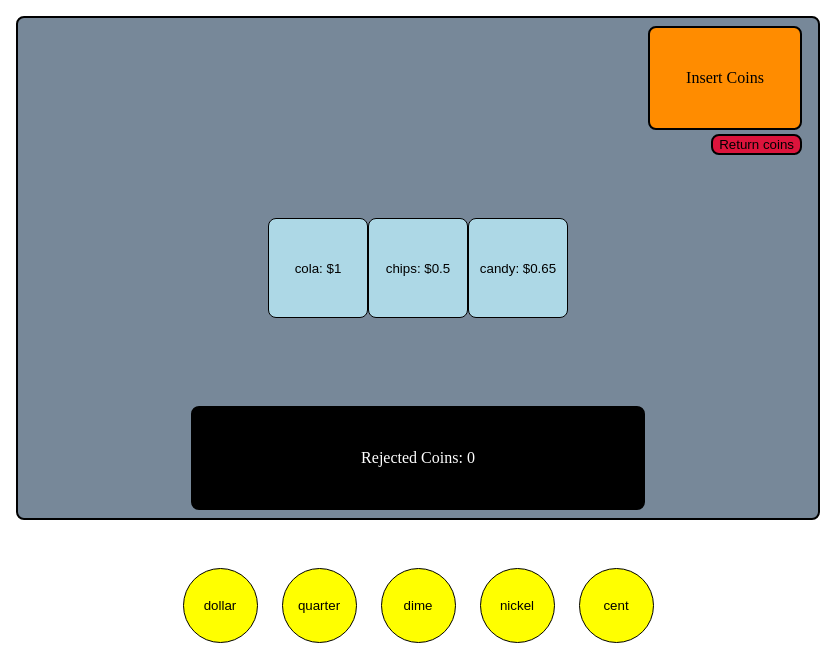
Scenario: UI elements have the correct affect on UI › Coins add up correctly
(page scrolled)
Click the button with test id "quarter". click: (319,606)
box: [282,568,356,643]
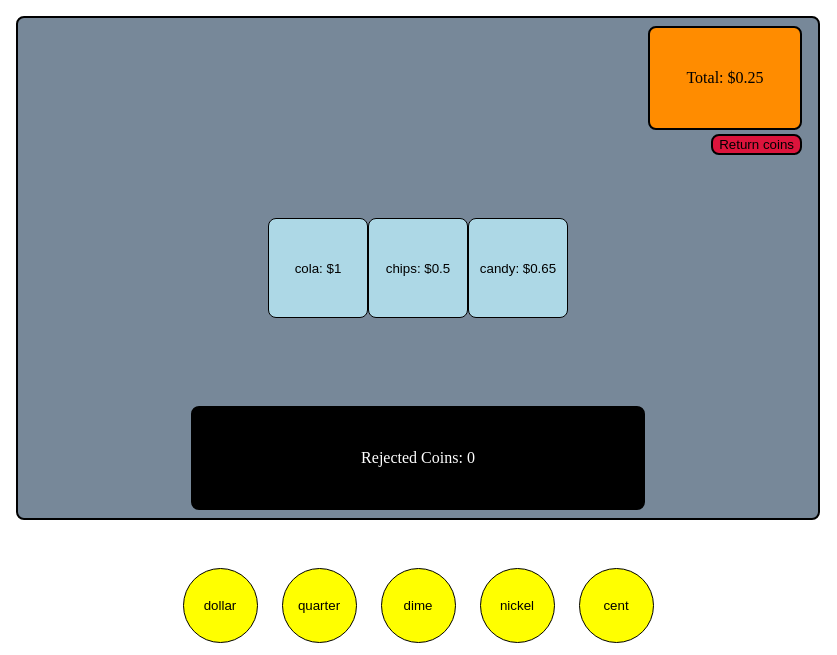
Expected: the text with test id "coin-total" reads "Total: $0.25", [686,69,764,86]
Click the button with test id "nickel". click: (517,606)
box: [480,568,554,643]
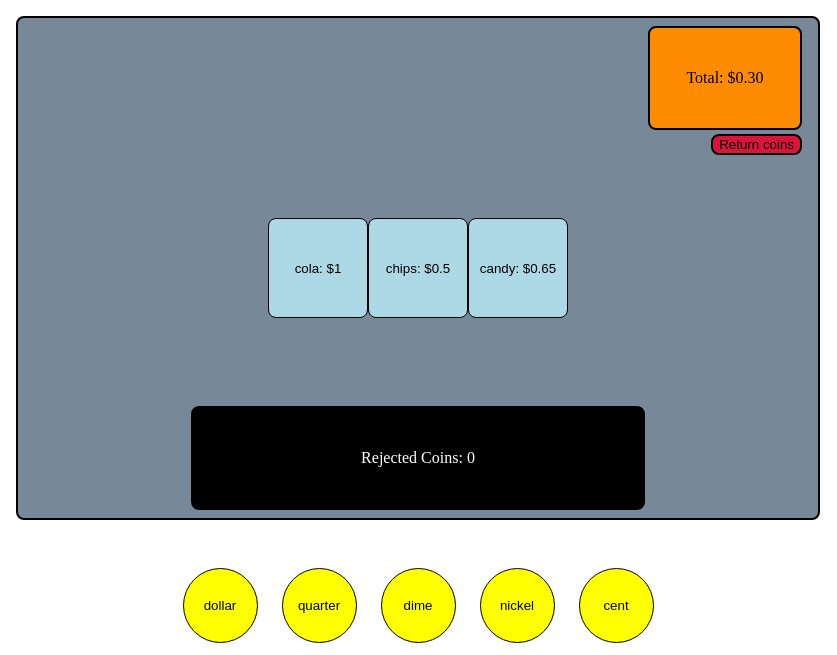
Expected: the text with test id "coin-total" reads "Total: $0.30", [686,69,764,86]
Click the button with test id "dime". click: (418,606)
box: [380,568,456,643]
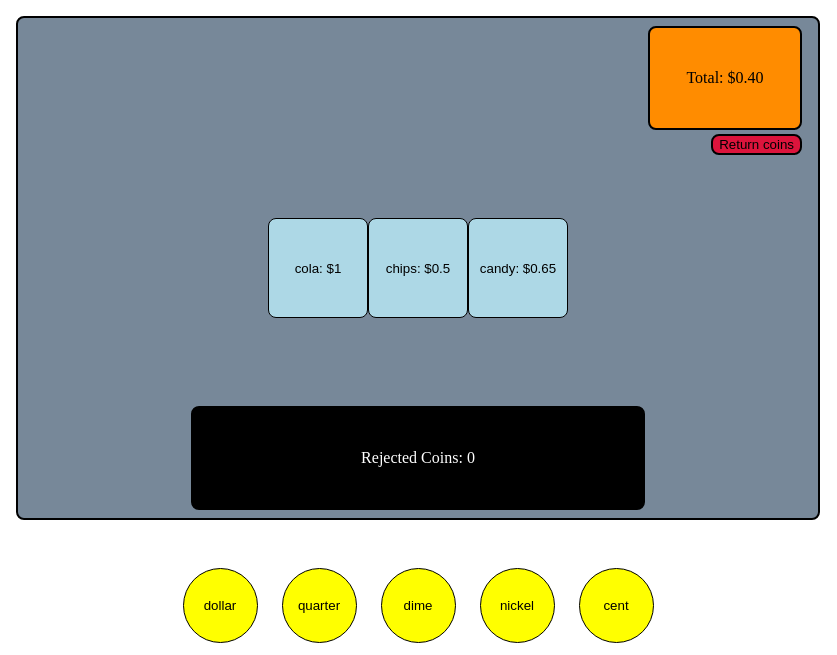
Expected: the text with test id "coin-total" reads "Total: $0.40", [686,69,764,86]
